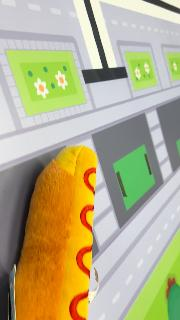hotdog: (14, 145, 99, 319)
